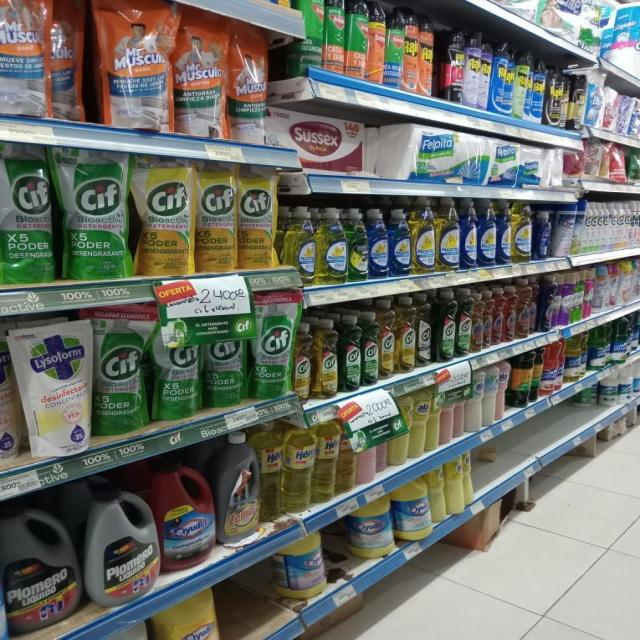ala_conc_amarillo: (517, 278, 530, 339), (472, 288, 483, 352), (483, 288, 493, 349)
ala_conc_rojo: (493, 287, 504, 346), (505, 284, 516, 343)
ala_crem_amarillo: (410, 386, 428, 459), (446, 458, 464, 515), (428, 384, 441, 452)
ala_crem_blanco: (484, 365, 497, 427)
cif_conc_bot_amarilla: (313, 317, 338, 398), (293, 321, 312, 402), (397, 296, 415, 373), (380, 298, 396, 380), (417, 294, 432, 368)
cif_conc_botella_verde: (340, 313, 360, 392), (436, 289, 456, 362), (361, 310, 379, 386), (457, 289, 470, 357)
cif_conc_sachet_amarillo: (136, 156, 194, 276), (196, 160, 237, 273), (238, 164, 277, 270)
cif_conc_sachet_verde: (61, 148, 131, 280), (0, 140, 56, 285), (94, 307, 148, 435), (152, 312, 201, 421), (251, 290, 293, 400), (204, 316, 247, 408)
heroe: (282, 420, 312, 514)
magistral_con_amarillo: (316, 207, 347, 284), (288, 205, 315, 286), (412, 198, 435, 274), (436, 197, 459, 272), (348, 207, 368, 281), (512, 202, 532, 264)
magistral_con_azul: (368, 206, 389, 278), (390, 207, 411, 276), (460, 197, 478, 269), (479, 198, 496, 268), (497, 199, 511, 265)
